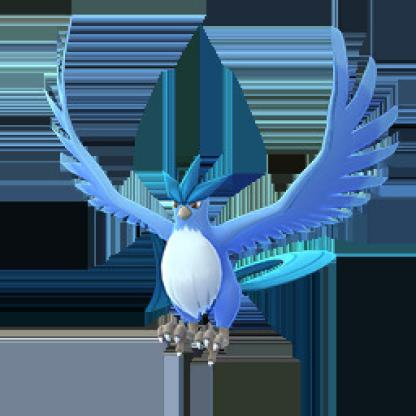Articuno: (153, 153, 243, 364)
